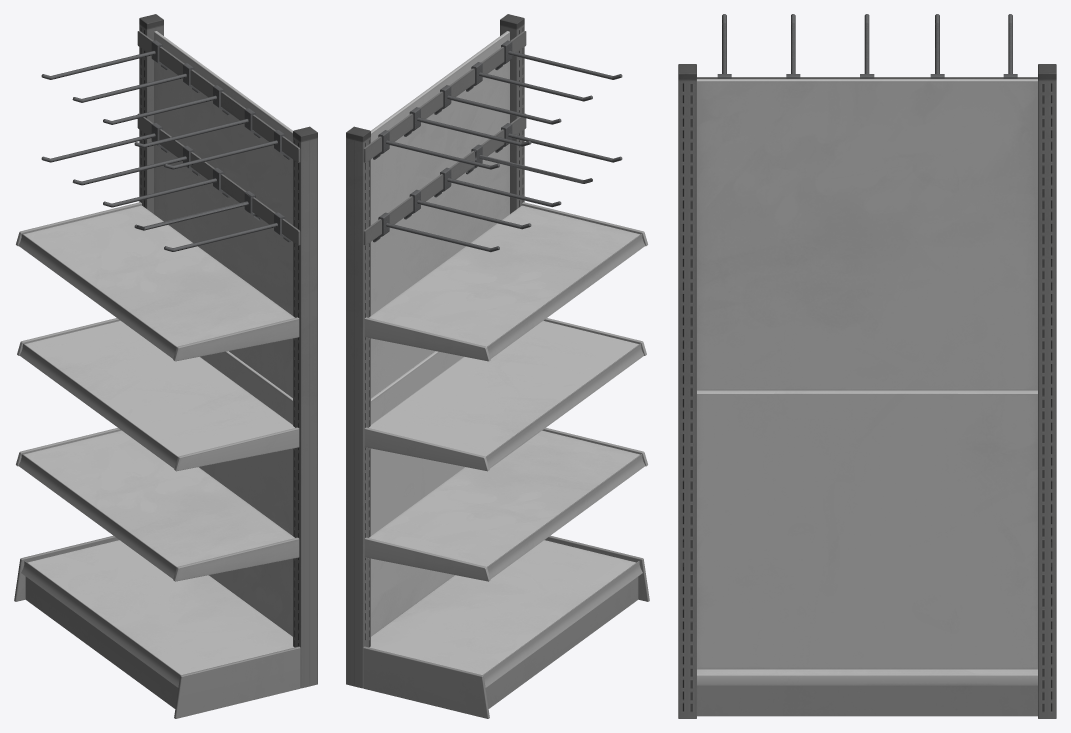
File: SM_Shelf_10.fbx
3 views of the same model, side by side, from view 1: azimuth 30°, elevation 25°; view 2: azimuth 150°, elevation 25°; view 3: azimuth 270°, elevation 25° (orthographic). The views are drawn at different scales.
Visible parts, largest first — view 1: SM_Shelf_10_LOD0; view 2: SM_Shelf_10_LOD0; view 3: SM_Shelf_10_LOD0.
Boxes of the visible parts, x1=… form: SM_Shelf_10_LOD0: x1=14, y1=14, x2=317, y2=718; SM_Shelf_10_LOD0: x1=346, y1=14, x2=649, y2=718; SM_Shelf_10_LOD0: x1=678, y1=14, x2=1056, y2=718.
Size of the model in its own units: 40.68 by 80 by 151.
